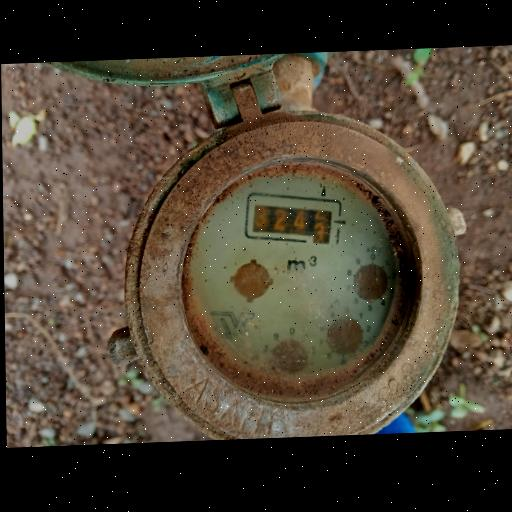2: (312, 210, 333, 245), (271, 205, 294, 235)
3: (252, 203, 275, 233)
4: (290, 207, 317, 237)
border_water_meter_number: (242, 188, 343, 248)
